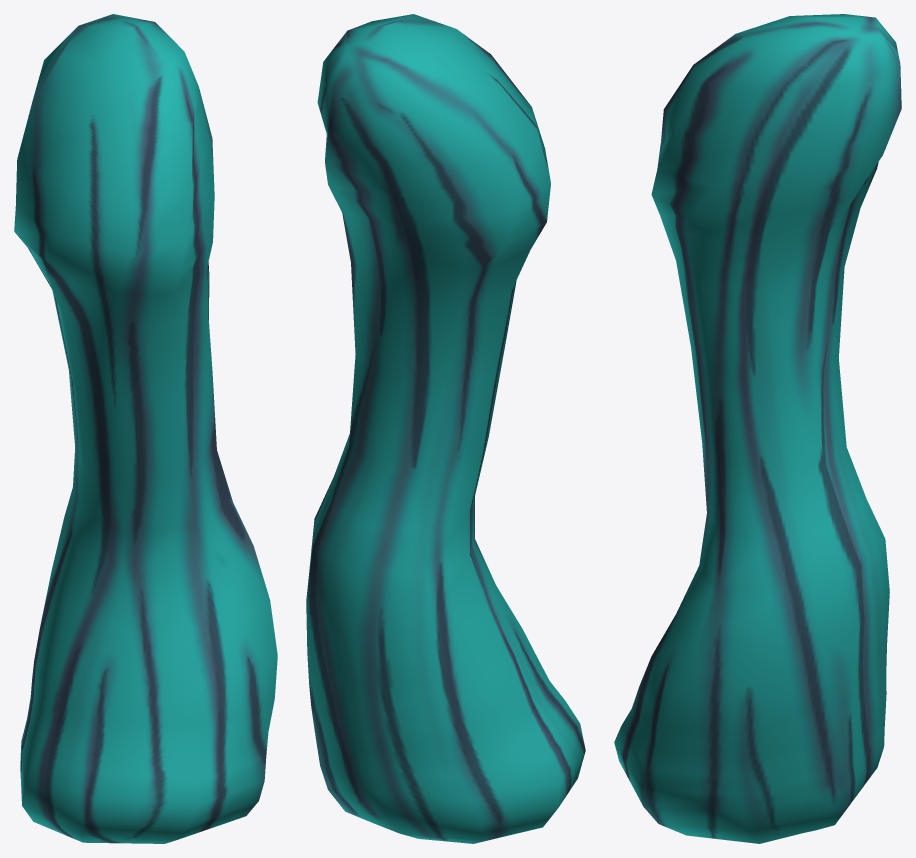
The model's file is Young Tree.fbx.
3 renders of one model, left to right at view 1: azimuth 30°, elevation 25°; view 2: azimuth 150°, elevation 25°; view 3: azimuth 270°, elevation 25°, orthographic. The views are drawn at different scales.
Visible parts, largest first — view 1: young tree; view 2: young tree; view 3: young tree.
Boxes of the visible parts, x1,y1,x2,y2 form: young tree: [14, 14, 277, 843]; young tree: [306, 14, 585, 843]; young tree: [614, 14, 901, 843].
Bounding box in the file's own units: 88.04 × 280 × 89.74.
